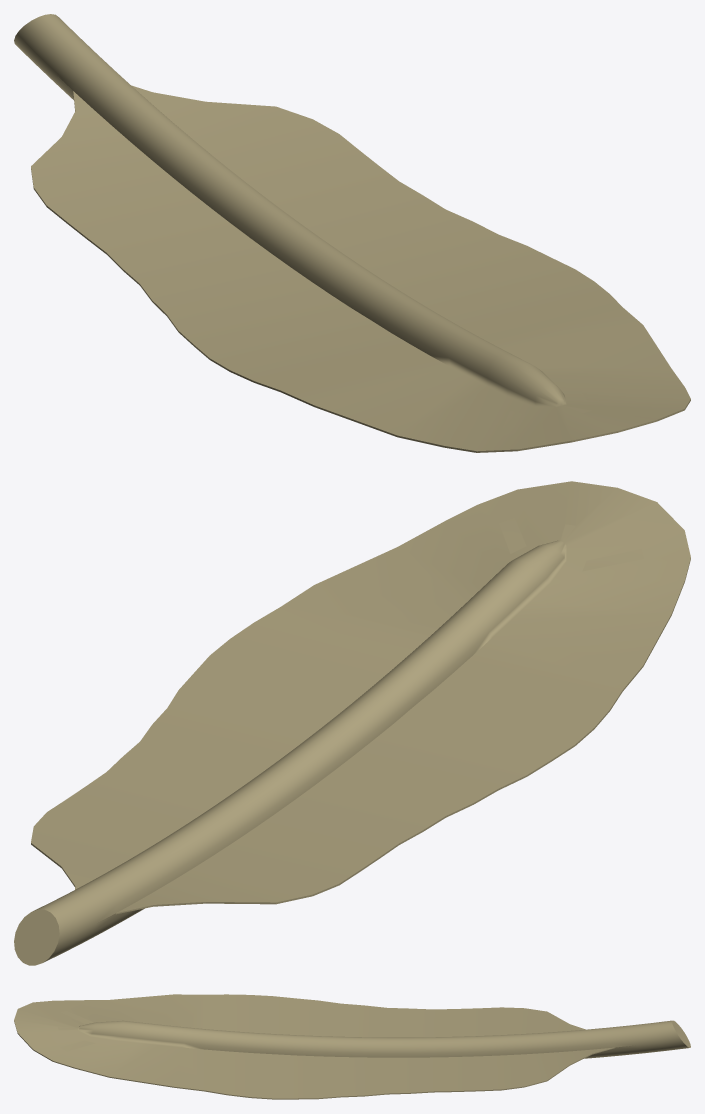
The model's file is Pluma.fbx.
3 renders of one model, top to bottom at view 1: azimuth 30°, elevation 25°; view 2: azimuth 150°, elevation 25°; view 3: azimuth 270°, elevation 25°, orthographic. The views are drawn at different scales.
Visible parts, largest first — view 1: pCylinder1; view 2: pCylinder1; view 3: pCylinder1.
Part boxes in pixels (x1,y1,x2,y2): pCylinder1: [14, 14, 690, 452]; pCylinder1: [14, 481, 690, 965]; pCylinder1: [14, 994, 690, 1099].
Size of the model in its own units: 2.63 by 0.5367 by 7.35.
